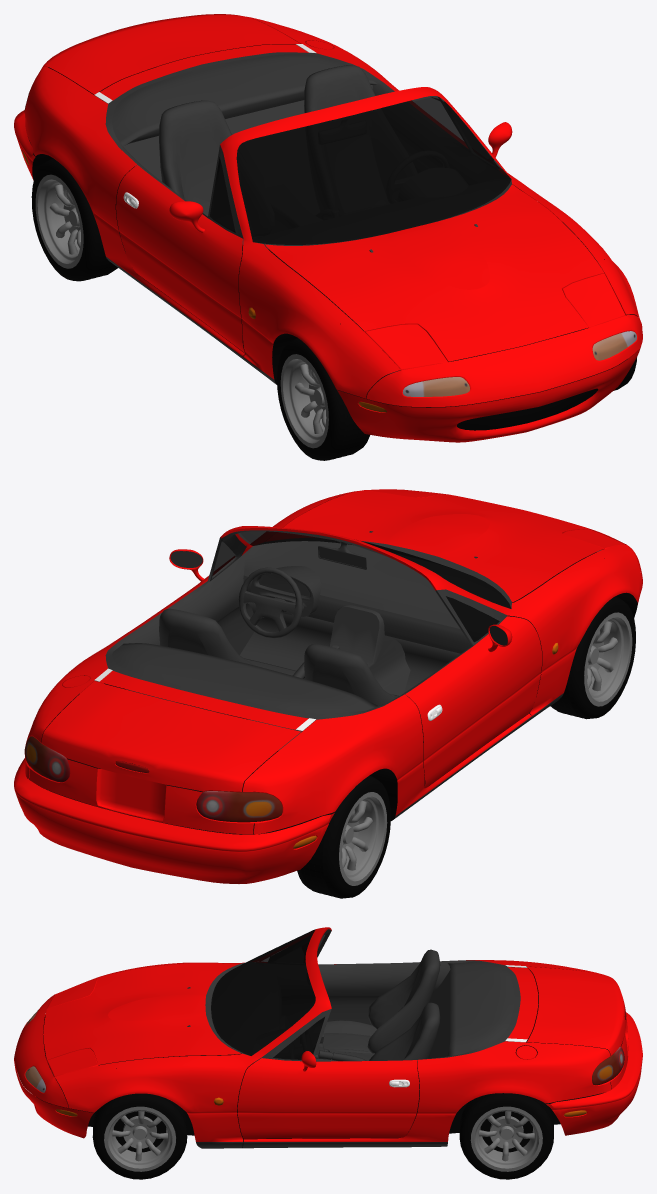
Rendered from miata.glb.
3 views of the same model, one above another, from view 1: azimuth 30°, elevation 25°; view 2: azimuth 150°, elevation 25°; view 3: azimuth 270°, elevation 25° (orthographic). The views are drawn at different scales.
Parts seen in each view (by area): view 1: Cube.001, Circle.004, Circle.005, Cube.007, Plane; view 2: Cube.001, Circle.005, Circle.004, Cube.007; view 3: Cube.001, Circle.002, Circle.003, Cube.007, Plane.
Boxes of the visible parts, x1,y1,x2,y2 form: Cube.001: (14,14,642,442); Circle.004: (277,338,369,460); Circle.005: (31,158,117,281); Cube.007: (365,273,625,373); Plane: (29,44,627,430); Cube.001: (14,489,642,883); Circle.005: (297,775,390,898); Circle.004: (550,596,635,719); Cube.007: (365,489,624,551); Cube.001: (14,927,642,1148); Circle.002: (459,1093,553,1179); Circle.003: (92,1093,187,1179); Cube.007: (47,978,97,1076); Plane: (38,969,622,1145).
Bounding box in the file's own units: 124 × 80.24 × 266.
Materials: 12 (1 with a texture image).
